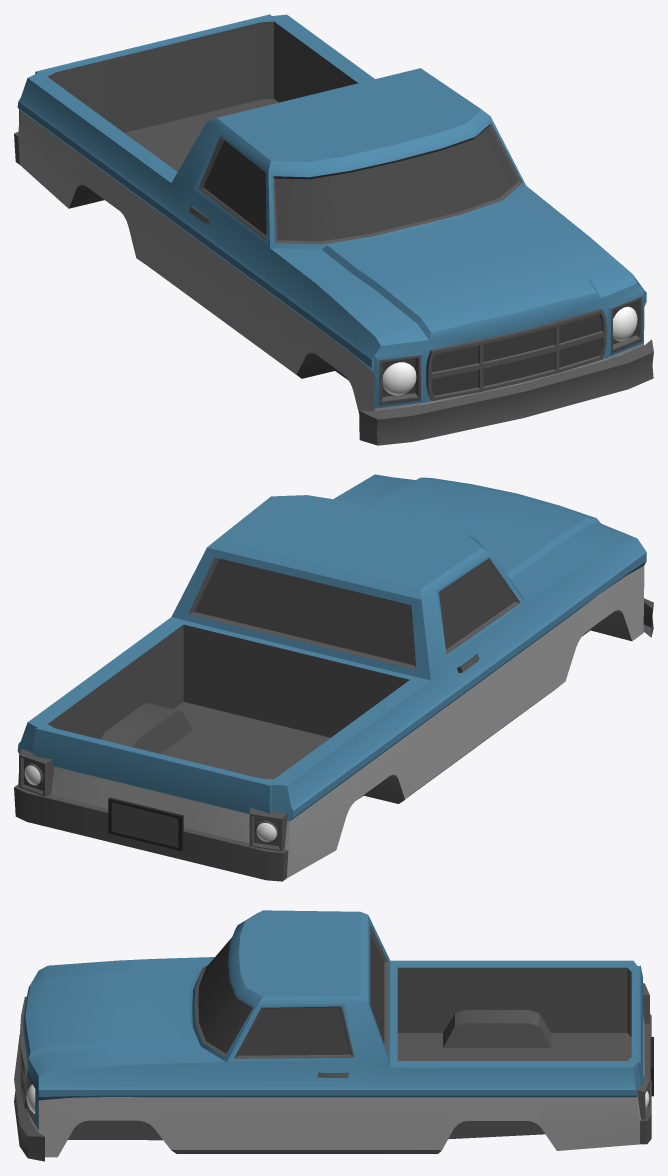
Rendered from pickup_lev1.glb.
3 renders of one model, top to bottom at view 1: azimuth 30°, elevation 25°; view 2: azimuth 150°, elevation 25°; view 3: azimuth 270°, elevation 25°, orthographic. The views are drawn at different scales.
Visible parts, largest first — view 1: pickup_lev1; view 2: pickup_lev1; view 3: pickup_lev1.
Part boxes in pixels (bbox=[...]): pickup_lev1: bbox=[14, 14, 653, 445]; pickup_lev1: bbox=[14, 474, 653, 881]; pickup_lev1: bbox=[14, 910, 653, 1161].
Size of the model in its own units: 2.31 by 1.32 by 5.18.
3 materials, 1 textured.
